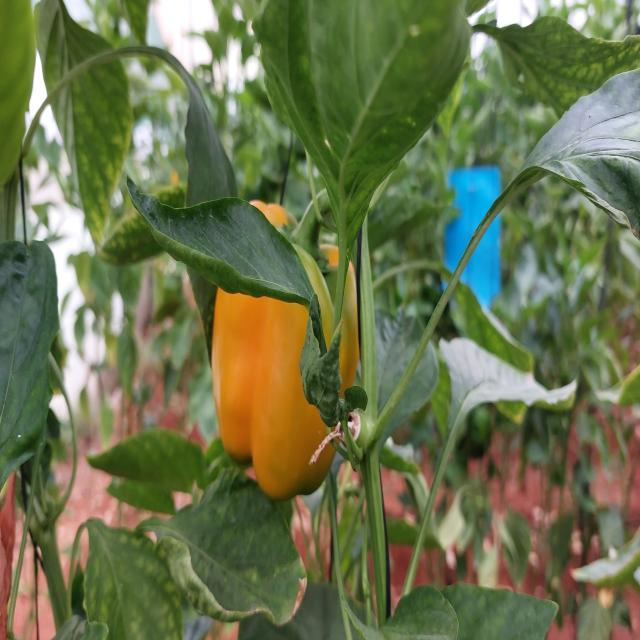Yellow-Ready-to-Harvest: (214, 289, 336, 502)
